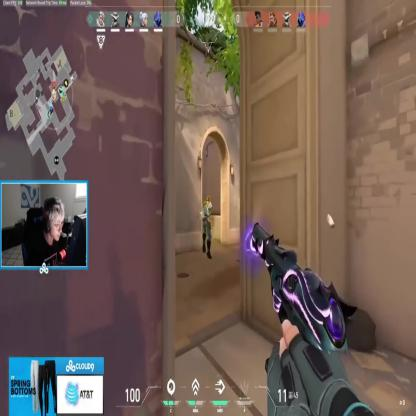enemy: (201, 194, 214, 258)
enemy_head: (207, 196, 211, 203)
